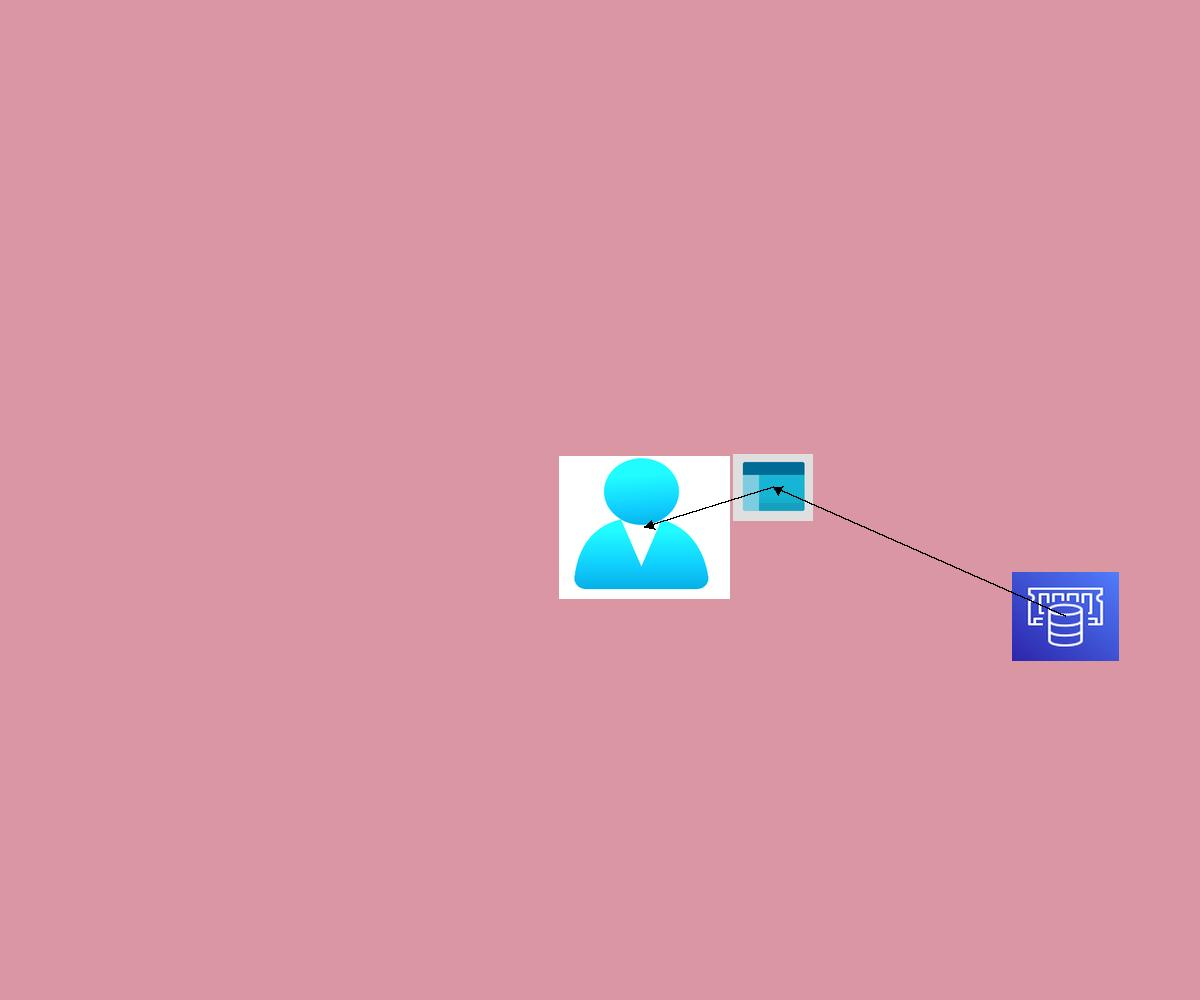AWS-ElastiCache: (1012, 572, 1119, 661)
Azure_management-portal: (733, 454, 813, 521)
Azure_users: (559, 456, 730, 599)
